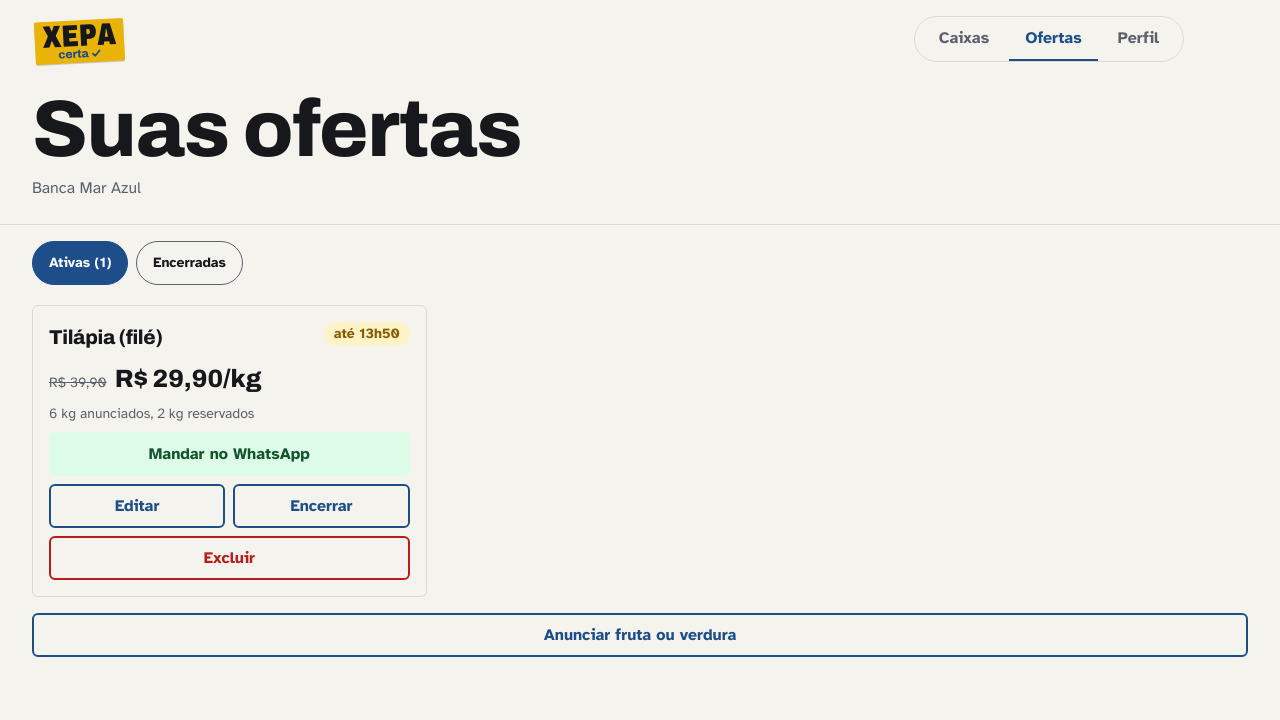
Suas ofertas › excluir pede confirmação e avisa depois
Click the button "Excluir" at (229, 558), box 49,536 -> 410,580
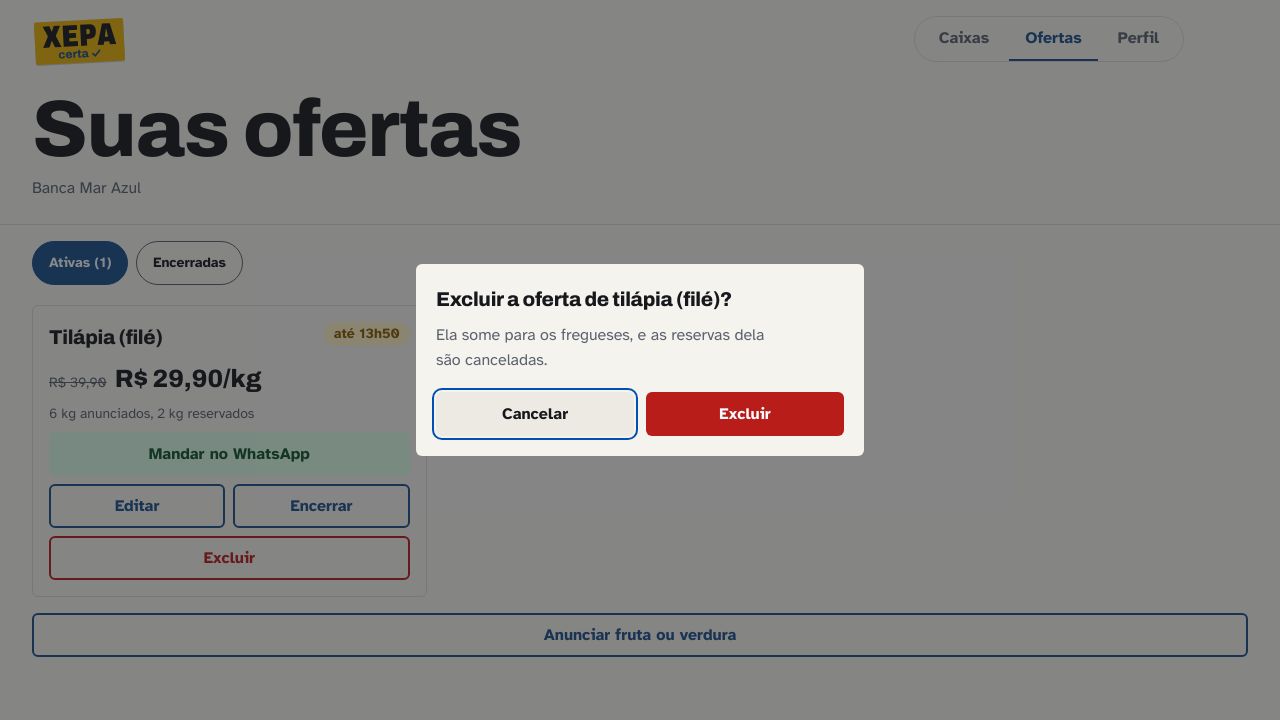
Click the button "Excluir" at (745, 414), box 646,392 -> 844,436
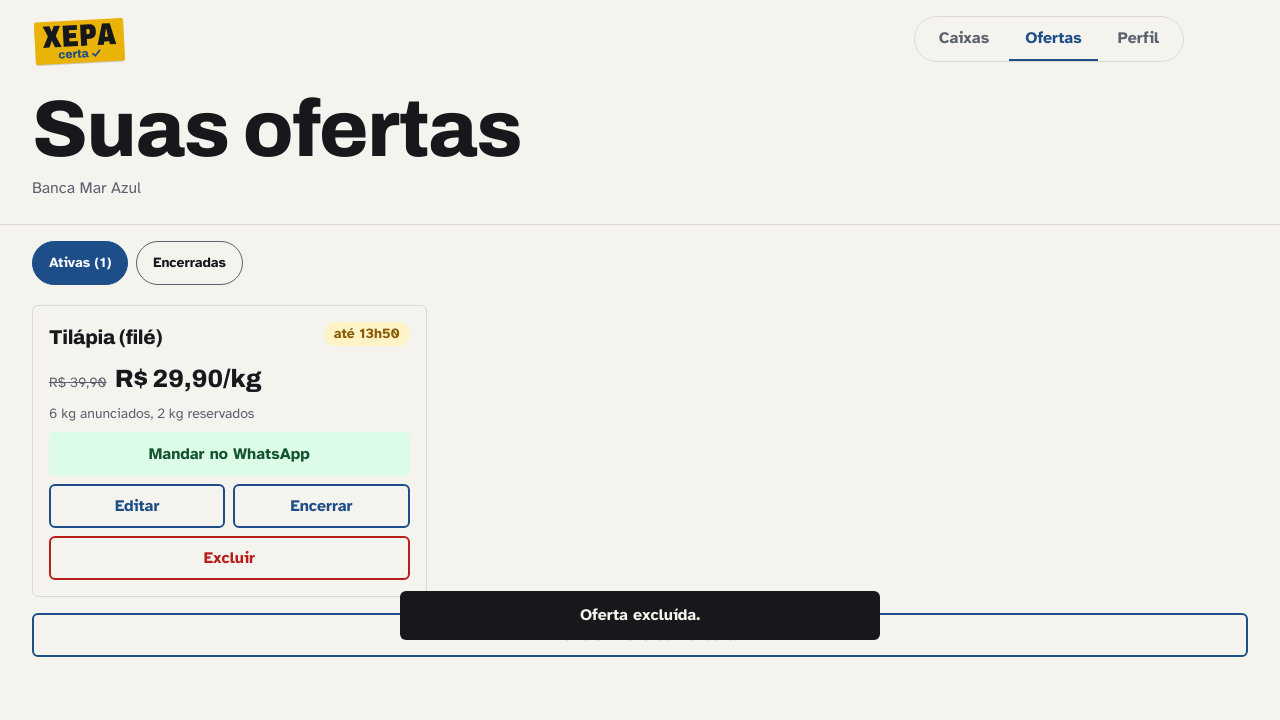
Expected: the text "Oferta excluída." is shown, 400,591 -> 880,640
